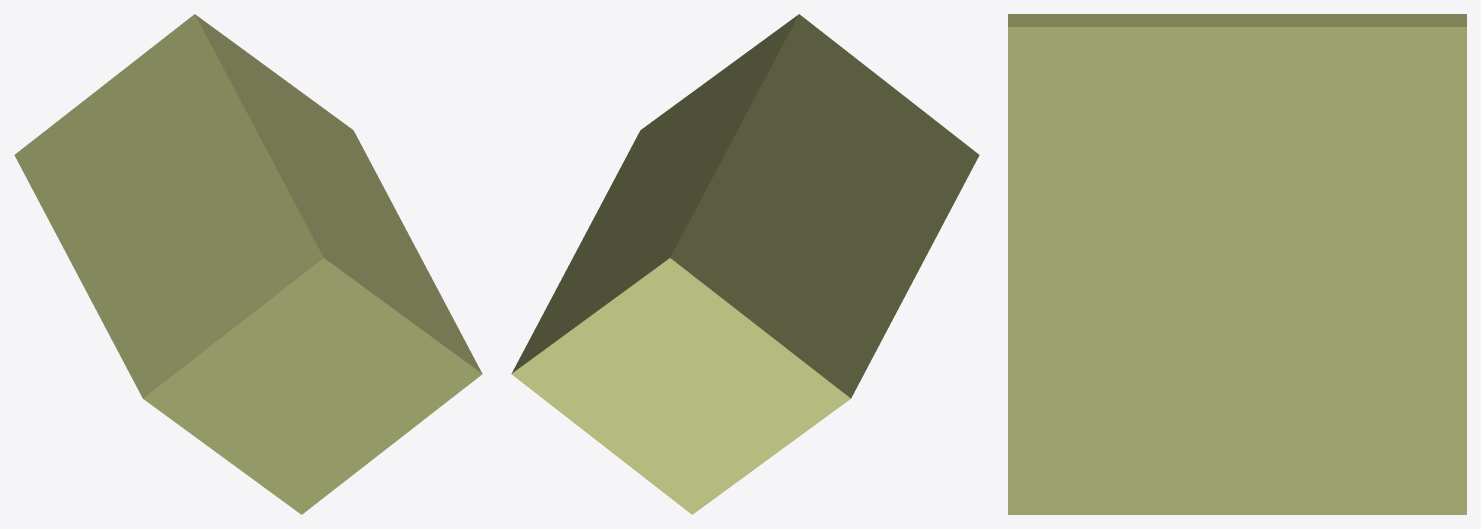
3 views of the same model, side by side, from view 1: azimuth 30°, elevation 25°; view 2: azimuth 150°, elevation 25°; view 3: azimuth 270°, elevation 25° (orthographic). The views are drawn at different scales.
Visible parts, largest first — view 1: 0_1_1_3_2_2_3_3_1_3_3; view 2: 0_1_1_3_2_2_3_3_1_3_3; view 3: 0_1_1_3_2_2_3_3_1_3_3.
Part boxes in pixels (<box>): 0_1_1_3_2_2_3_3_1_3_3: <box>14,14,482,514</box>; 0_1_1_3_2_2_3_3_1_3_3: <box>511,14,979,514</box>; 0_1_1_3_2_2_3_3_1_3_3: <box>1008,14,1466,514</box>.
Size of the model in its own units: 6.75 by 7.75 by 6.
